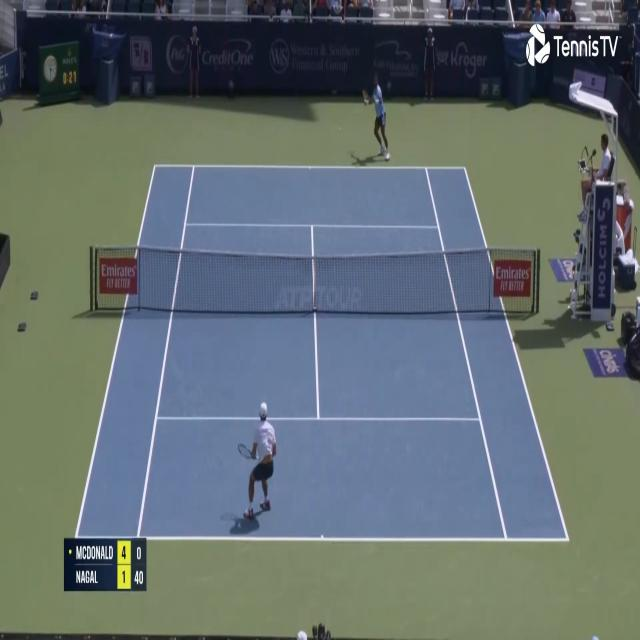tennis-player: (236, 398, 278, 525), (360, 68, 393, 163)
